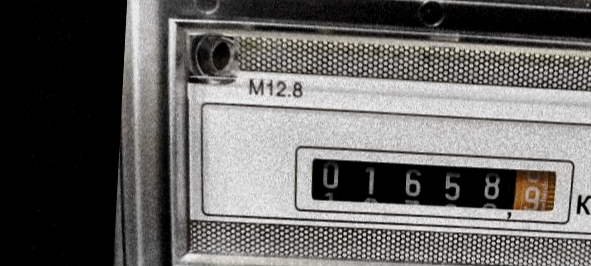0: (321, 158, 343, 191)
1: (364, 164, 379, 196)
5: (444, 170, 465, 203)
6: (404, 167, 426, 199)
8: (483, 170, 504, 203)
9: (523, 184, 542, 211)
screen: (286, 136, 581, 231)
